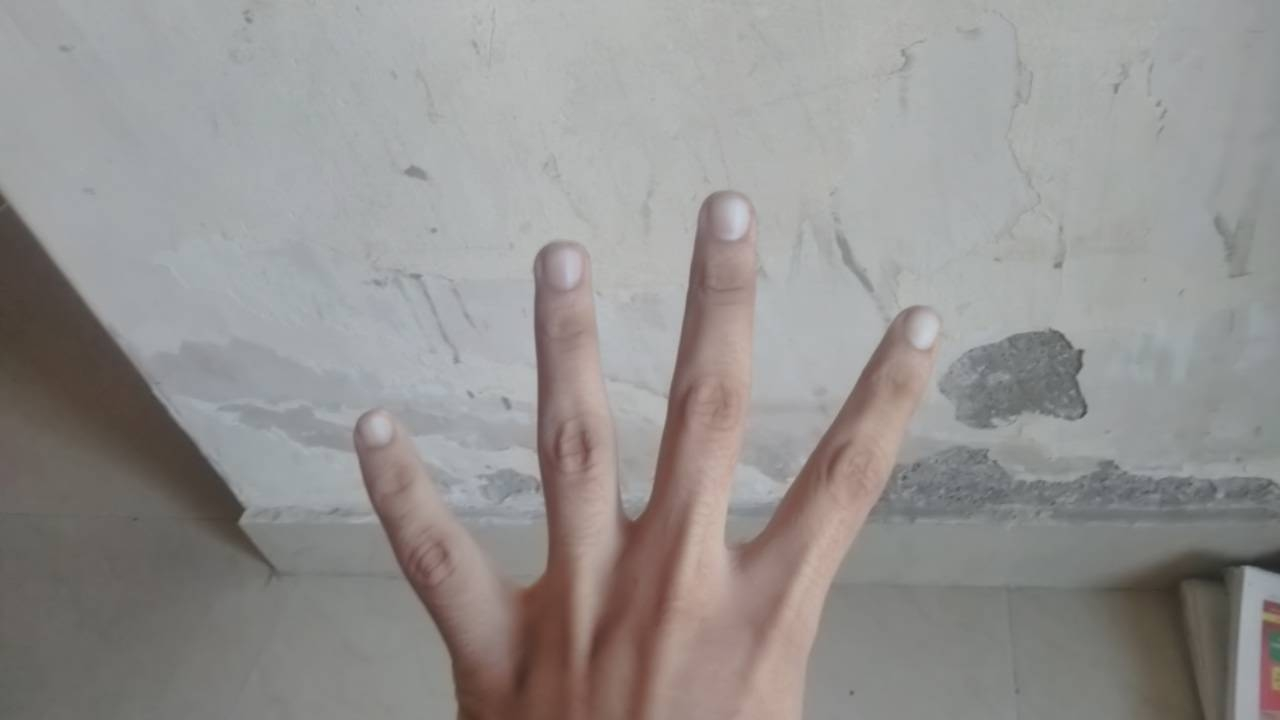fingertip: (342, 408, 412, 470), (884, 304, 960, 360), (530, 236, 594, 302), (696, 188, 764, 250)
